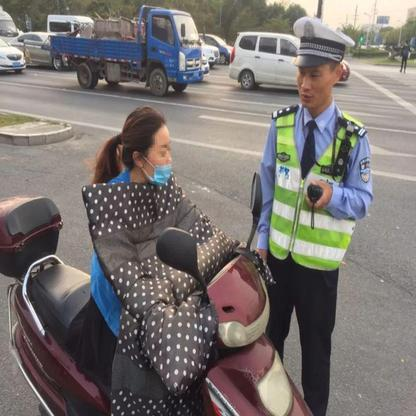target: (6, 106, 313, 414)
